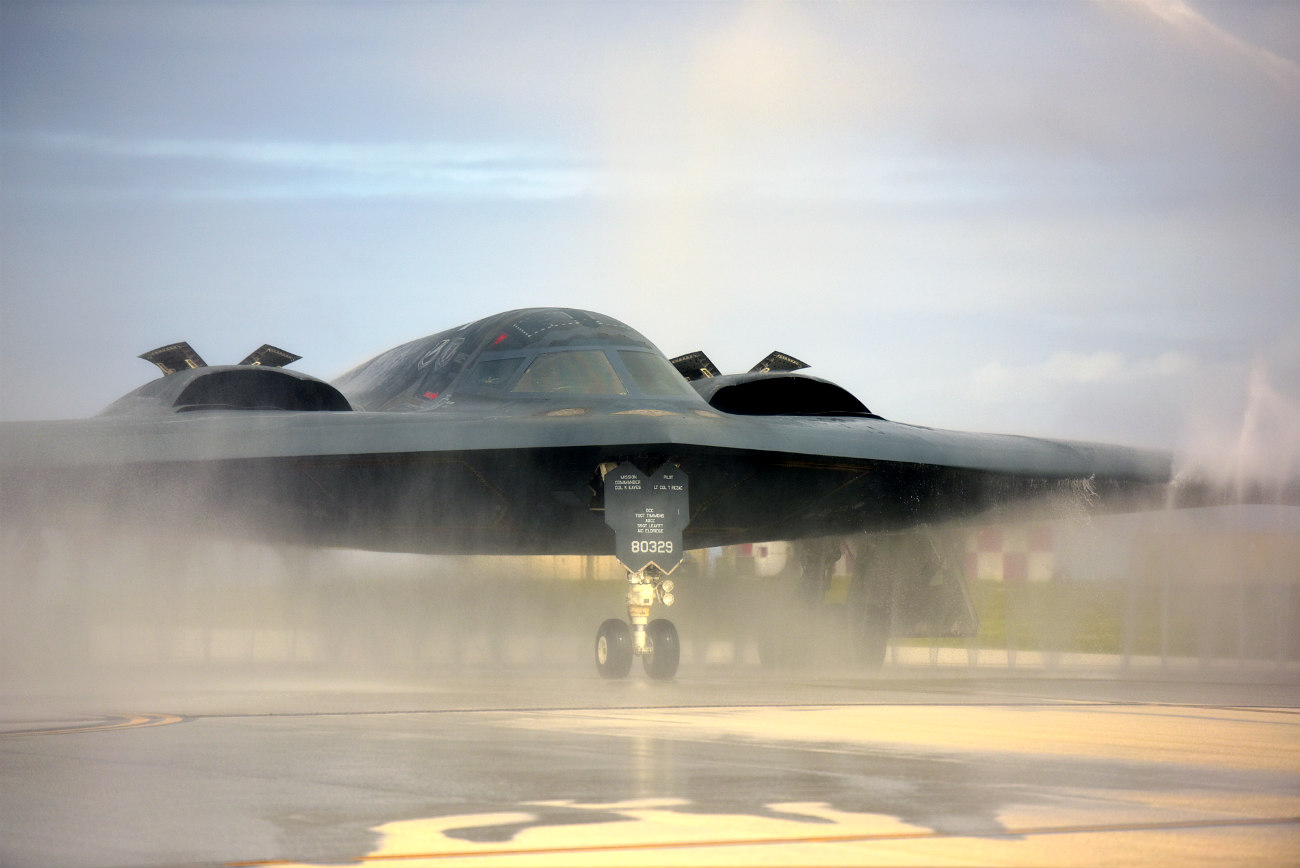B2: (1, 307, 1300, 678)
